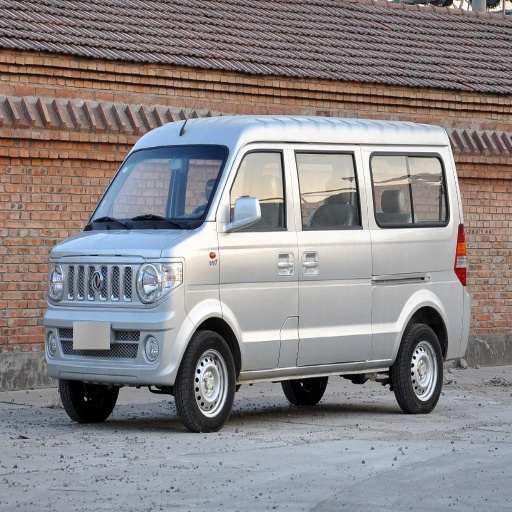back_left_door: (291, 148, 369, 338)
front_bumper: (42, 257, 193, 383)
front_glass: (89, 145, 228, 228)
front_left_door: (216, 145, 299, 368)
front_left_light: (136, 258, 183, 304)
trunk: (326, 248, 451, 359)
